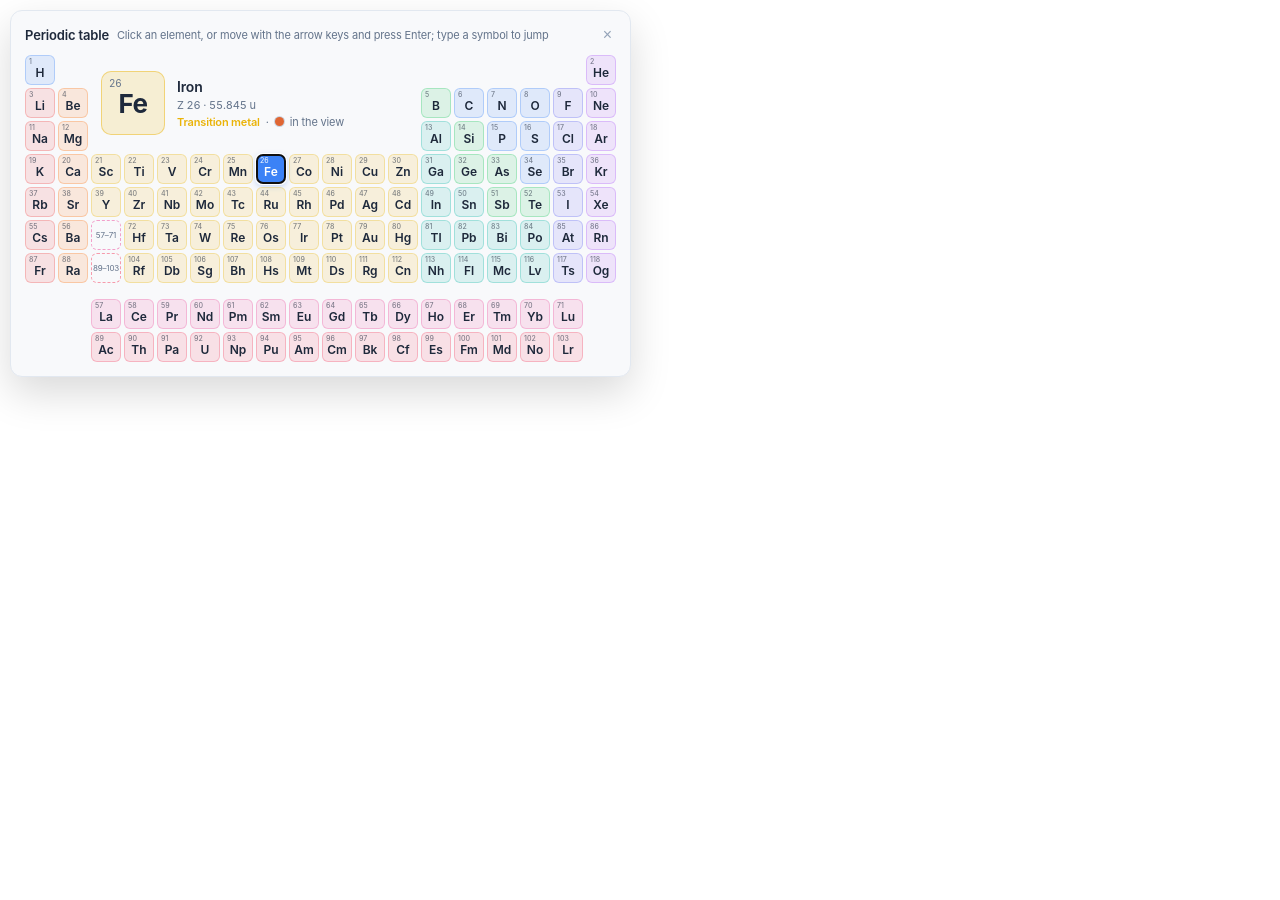
Test: PeriodicTable › describes the element under the pointer, else the current one
Expected: the text with test id "builder-periodic-info-name" reads "Iron", [177,78,203,94]
Expected: the element with test id "builder-periodic-info" shows "Transition metal", [177,114,260,128]
Hover over the button with test id "builder-periodic-Ne" at (601, 103), box [586,88,616,118]
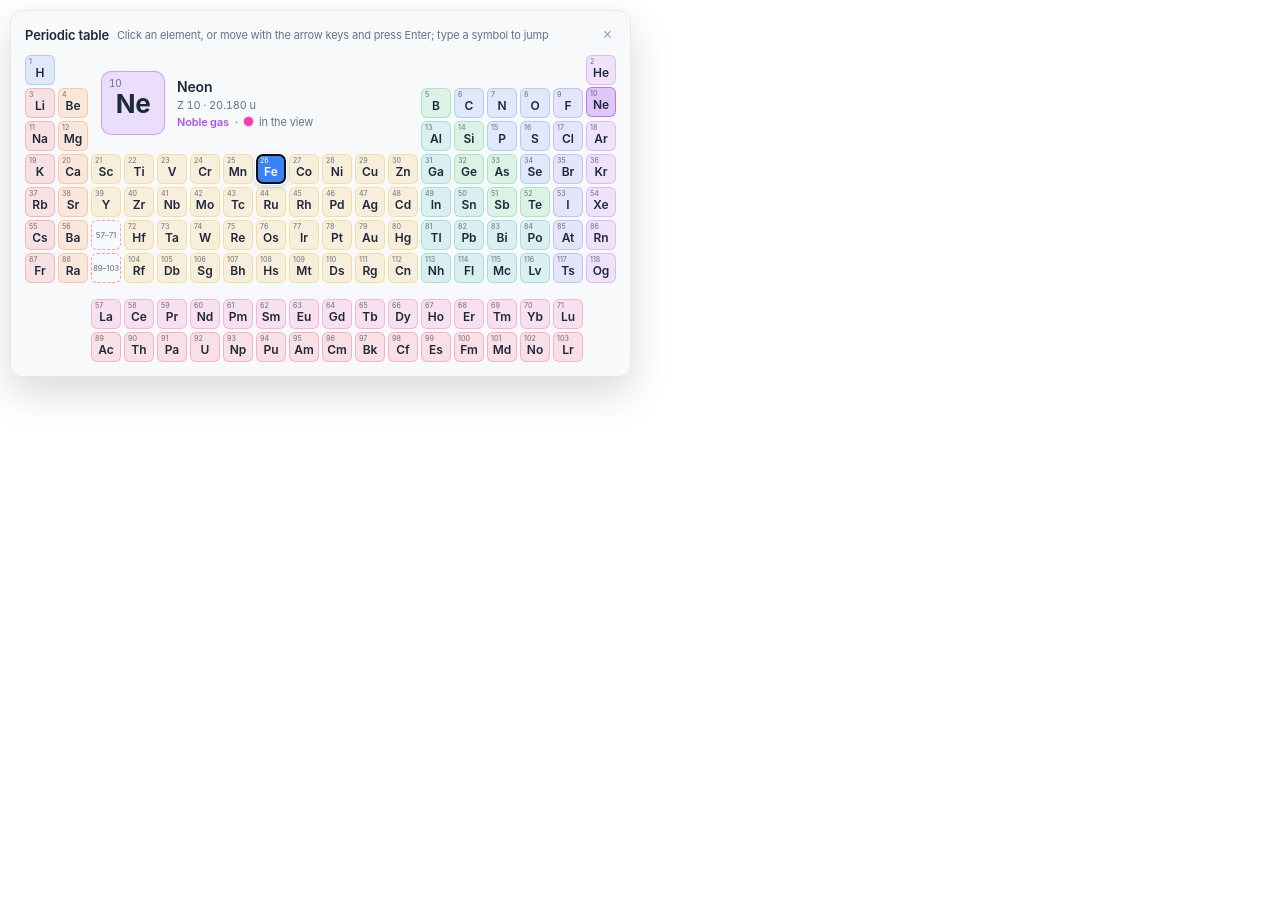
Now the text with test id "builder-periodic-info-name" reads "Neon", box [177,78,212,94]
Now the element with test id "builder-periodic-info" shows "Noble gas", box [177,114,229,128]
Now the element with test id "builder-periodic-info" shows "20.180 u", box [200,98,256,112]
Move the pointer off the element named "Elements", box [25,55,616,362]
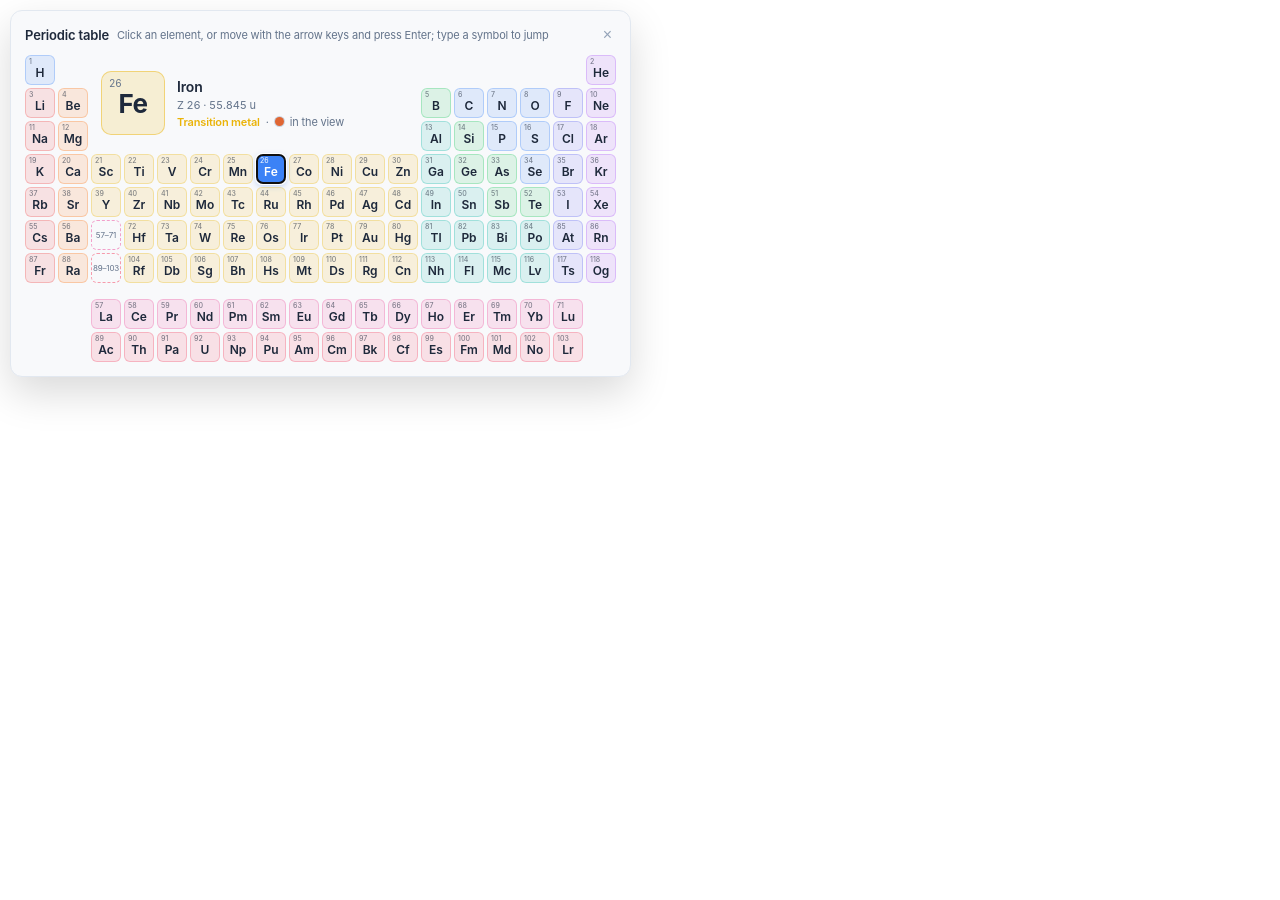
Now the text with test id "builder-periodic-info-name" reads "Iron", box [177,78,203,94]
Focus the button with test id "builder-periodic-U" at (205, 347), box [190,332,220,362]
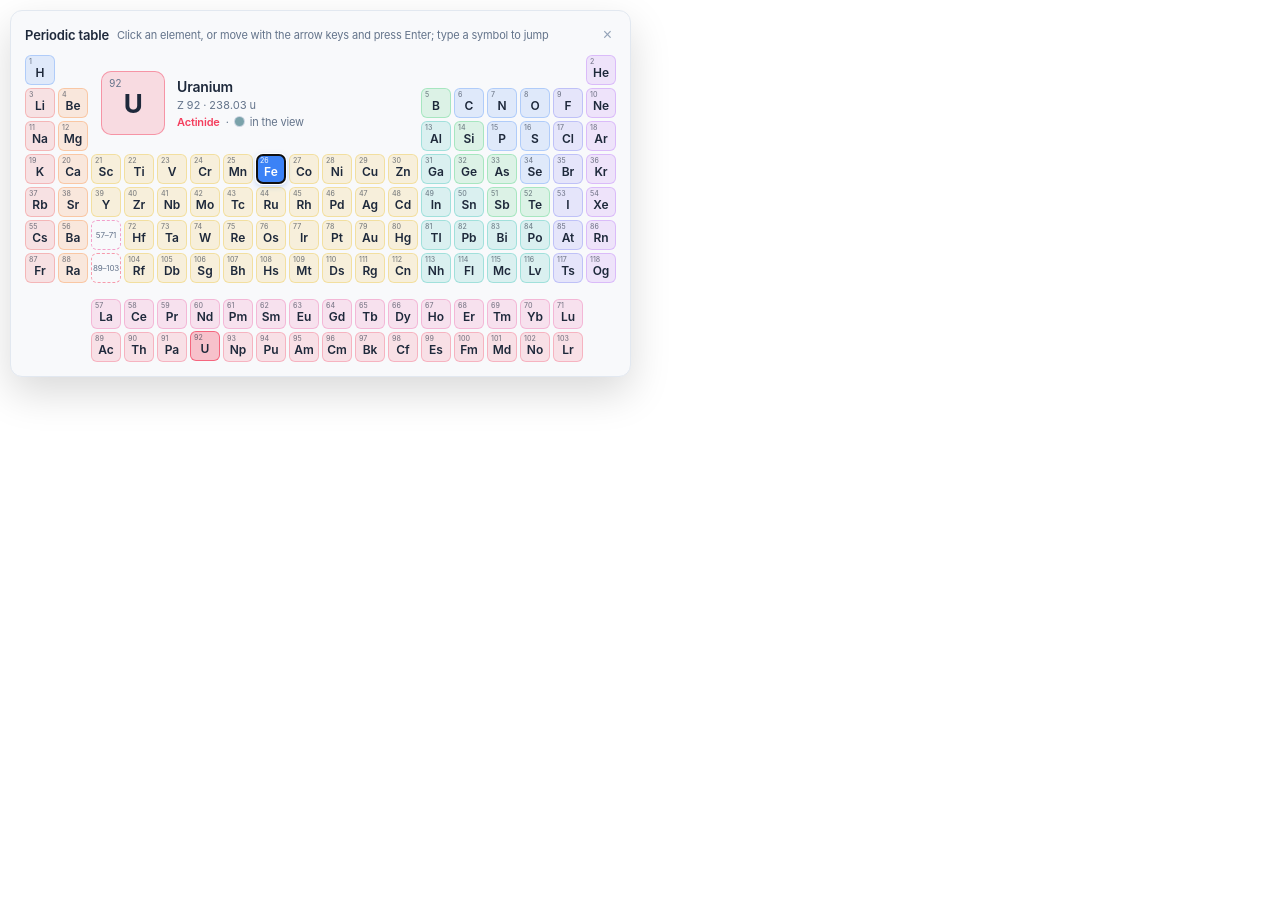
Now the element with test id "builder-periodic-info" shows "Actinide", box [177,114,220,128]
Now the element with test id "builder-periodic-info" reads "92 U Uranium Z 92 · 238.03 u Actinide · in the view", box [200,98,256,112]
